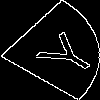Y: (24, 24, 100, 80)
